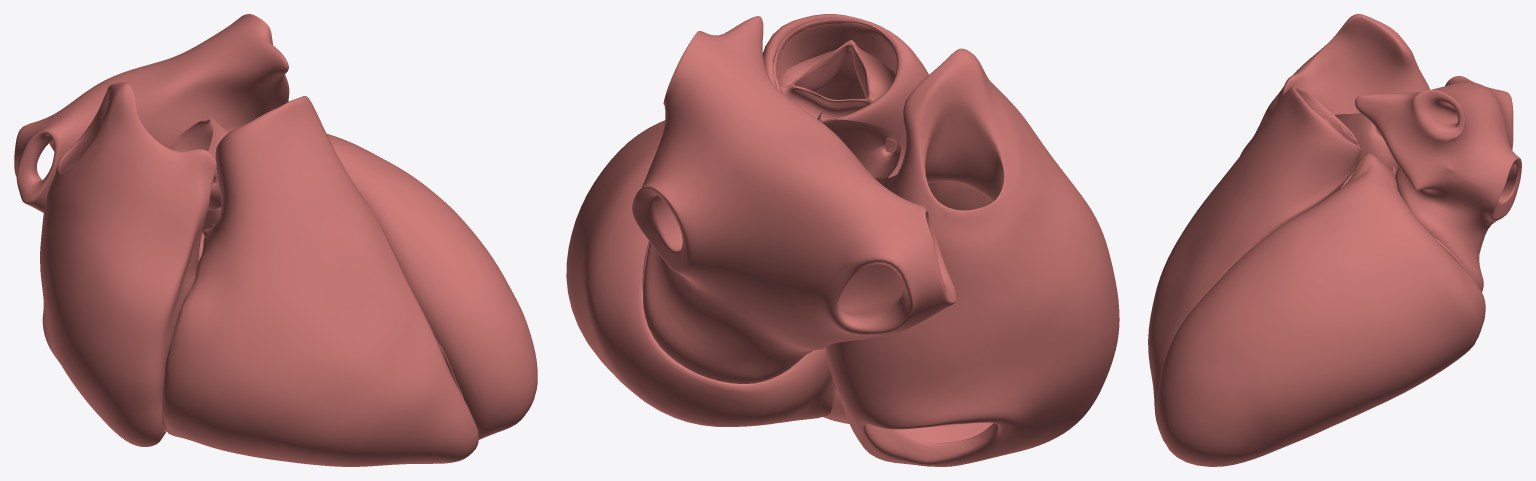
The model's file is heart.glb.
3 renders of one model, left to right at view 1: azimuth 30°, elevation 25°; view 2: azimuth 150°, elevation 25°; view 3: azimuth 270°, elevation 25°, orthographic. The views are drawn at different scales.
Visible parts, largest first — view 1: VH_M_heart_right_ventricle, VH_M_right_cardiac_atrium, VH_M_heart_left_ventricle, VH_M_left_cardiac_atrium, VH_M_aortic_valve; view 2: VH_M_left_cardiac_atrium, VH_M_right_cardiac_atrium, VH_M_heart_left_ventricle, VH_M_heart_right_ventricle, VH_M_pulmonary_valve, VH_M_aortic_valve; view 3: VH_M_heart_left_ventricle, VH_M_heart_right_ventricle, VH_M_left_cardiac_atrium, VH_M_right_cardiac_atrium, VH_M_aortic_valve.
Boxes of the visible parts, box(x1,y1,x2,y2) form: VH_M_heart_right_ventricle: box(162, 96, 478, 466); VH_M_right_cardiac_atrium: box(40, 82, 216, 446); VH_M_heart_left_ventricle: box(202, 134, 537, 439); VH_M_left_cardiac_atrium: box(14, 14, 289, 212); VH_M_aortic_valve: box(170, 114, 229, 210); VH_M_left_cardiac_atrium: box(632, 16, 956, 383); VH_M_right_cardiac_atrium: box(826, 48, 1119, 466); VH_M_heart_left_ventricle: box(566, 120, 833, 426); VH_M_heart_right_ventricle: box(763, 14, 928, 423); VH_M_pulmonary_valve: box(773, 19, 895, 119); VH_M_aortic_valve: box(817, 112, 900, 188); VH_M_heart_left_ventricle: box(1156, 153, 1485, 466); VH_M_heart_right_ventricle: box(1148, 86, 1360, 442); VH_M_left_cardiac_atrium: box(1355, 76, 1521, 291); VH_M_right_cardiac_atrium: box(1240, 14, 1430, 155); VH_M_aortic_valve: box(1334, 112, 1398, 169).
Bounding box in the file's own units: 0.1243 × 0.1054 × 0.1052.
